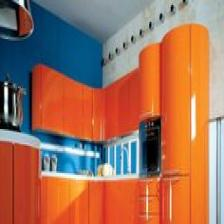orange: (161, 24, 210, 224), (32, 64, 67, 134), (105, 70, 140, 138), (140, 44, 160, 122), (104, 180, 139, 224), (65, 78, 84, 139), (46, 178, 70, 223), (139, 178, 160, 223), (70, 180, 89, 223), (92, 88, 106, 143), (89, 182, 104, 223), (84, 85, 93, 141)
